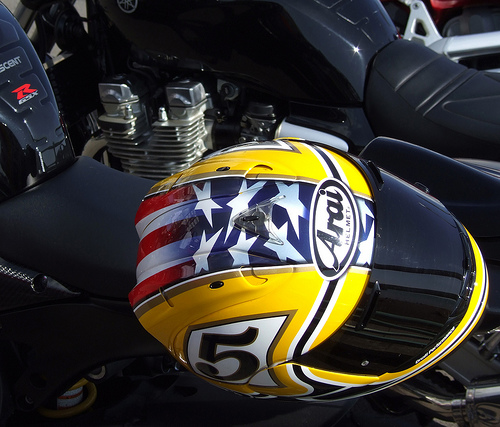helmet: (147, 140, 441, 365)
